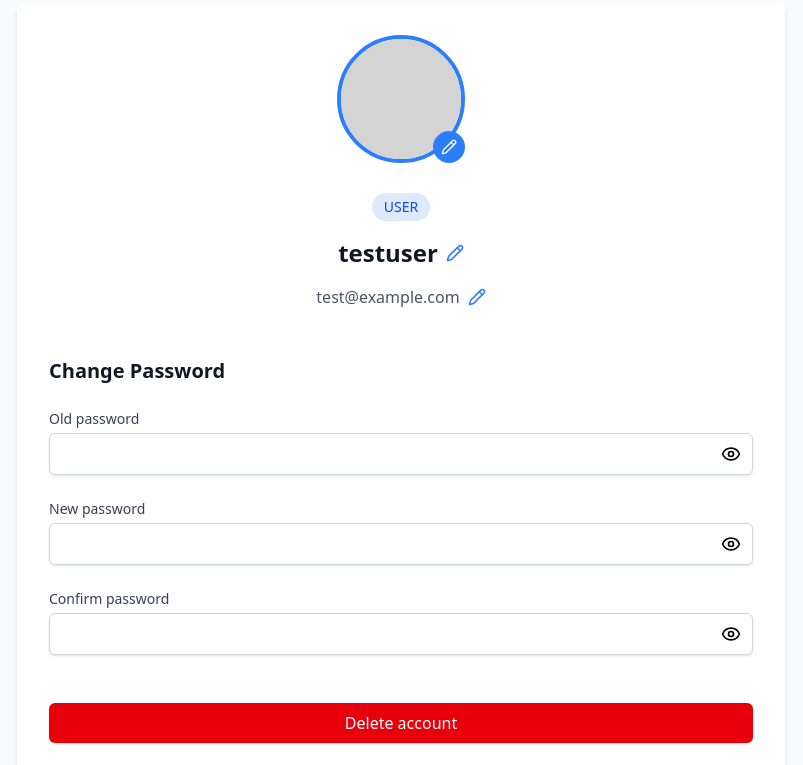
Scenario: Account Component › should allow editing username
Expected: the heading "testuser" is shown, [338,237,438,269]
Click the button without text next to "testuser". click: (455, 253)
box: [446,244,464,262]
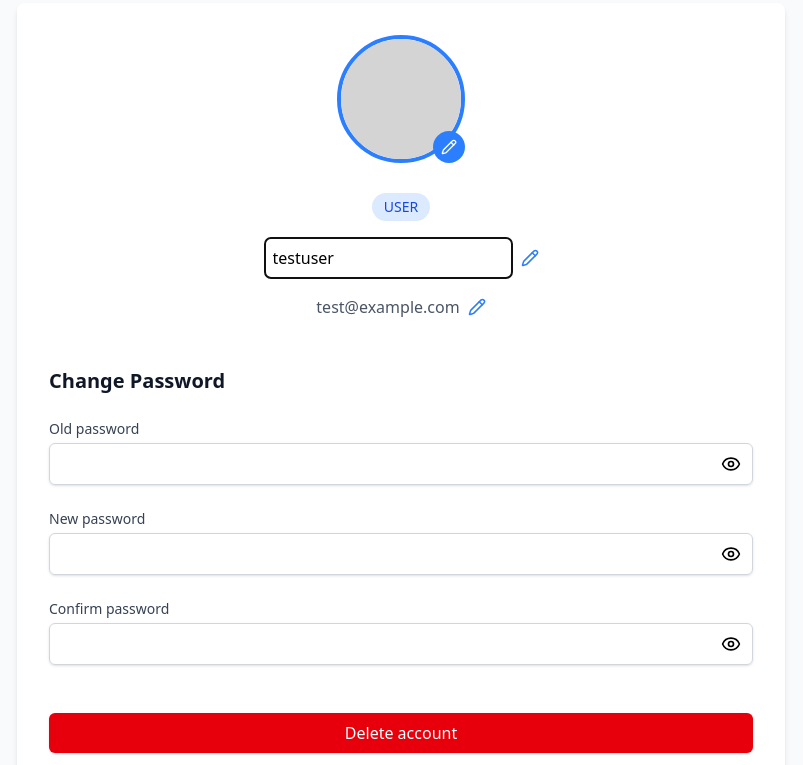
Replace the text in the field with "newuser". click: (388, 258)
box: [264,237,512,279]
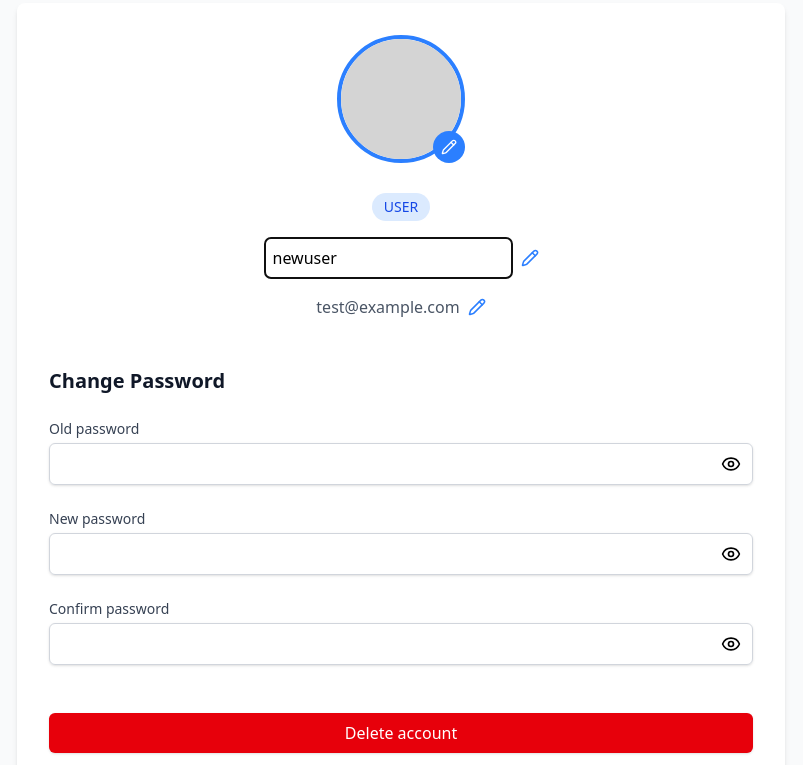
Submit the form from the field, box [264,237,512,279]
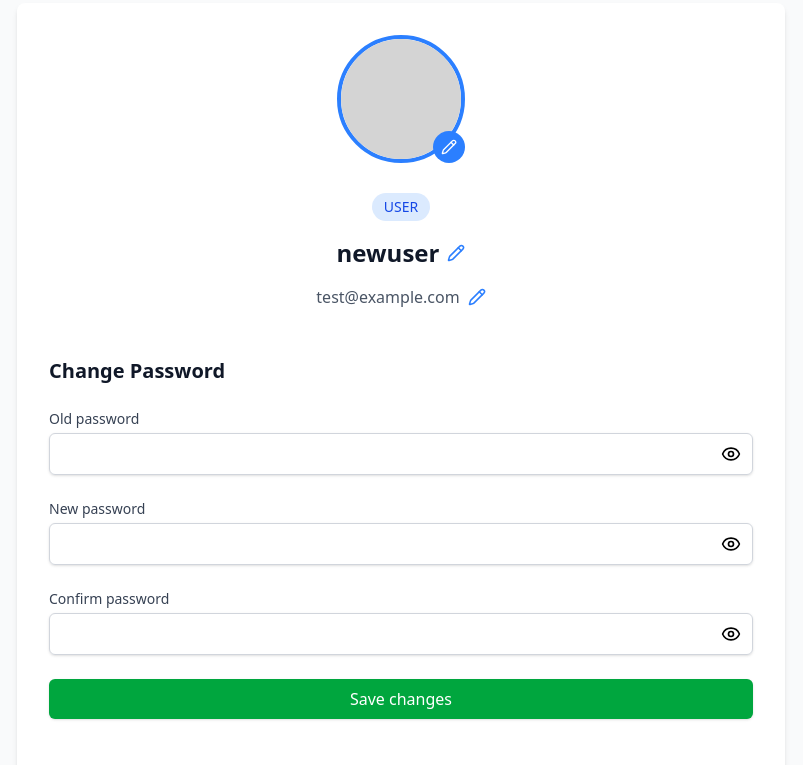
Expected: the heading "newuser" is shown, [337,237,439,269]
